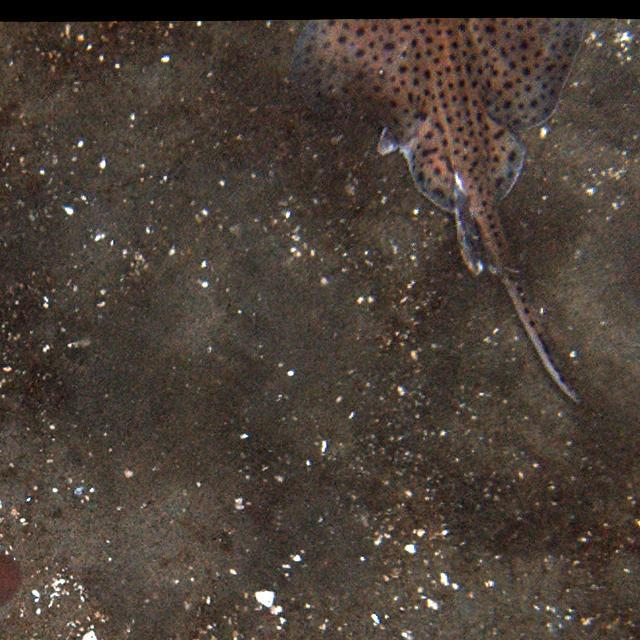skate: (286, 16, 592, 416)
